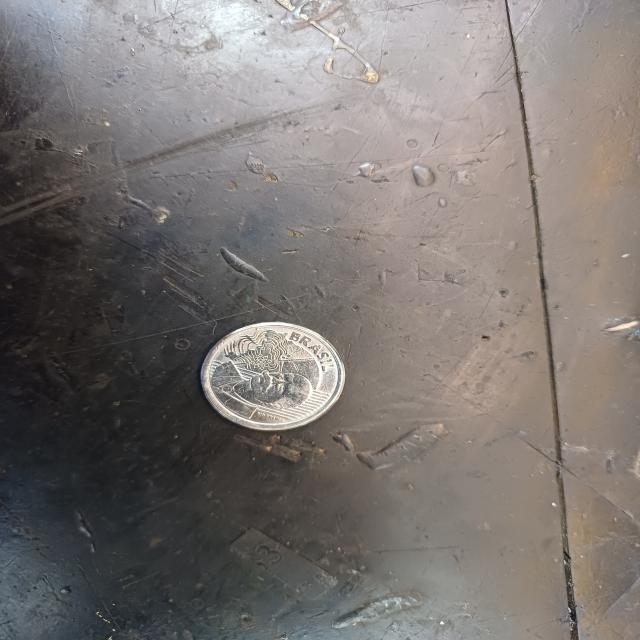50 cents: (193, 321, 349, 436)
